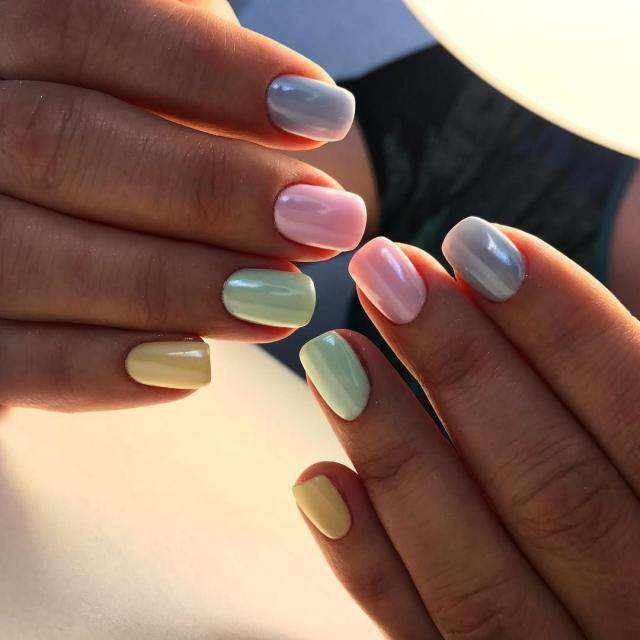Nail: (442, 218, 524, 302), (350, 238, 425, 324), (300, 331, 370, 421), (274, 184, 366, 251), (266, 75, 355, 142), (222, 268, 315, 328), (125, 340, 211, 389), (292, 475, 351, 539)
